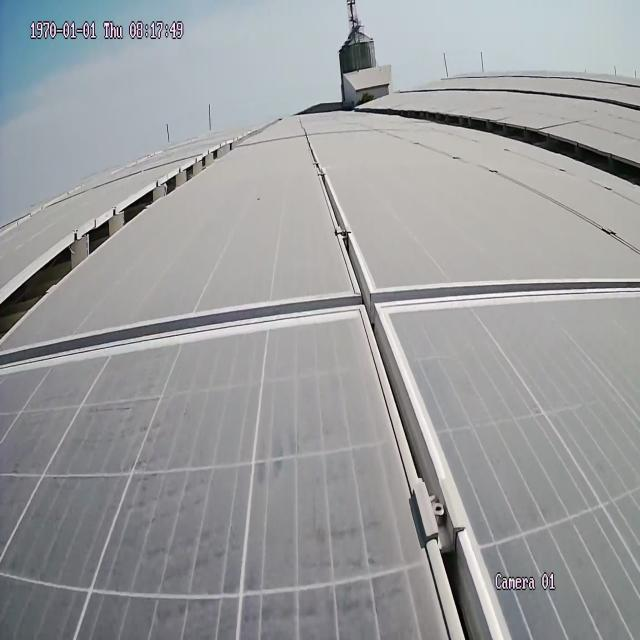interior panel: (308, 151, 499, 631), (22, 280, 349, 373), (379, 280, 640, 315)
outher panel: (4, 142, 233, 350), (384, 105, 636, 190)
